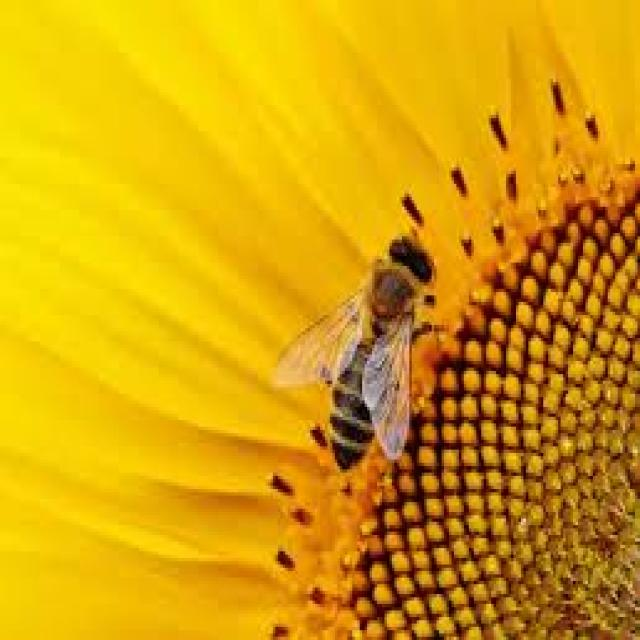Bees: (269, 229, 437, 472)
